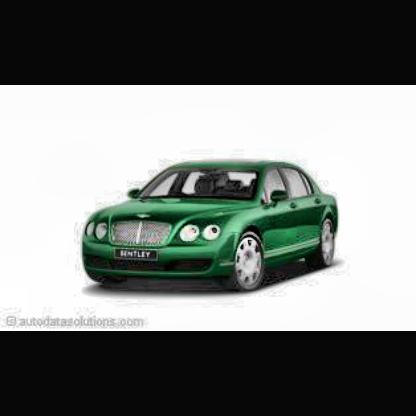Bentley Continental Flying Spur Sedan 2007: (82, 158, 342, 298)
